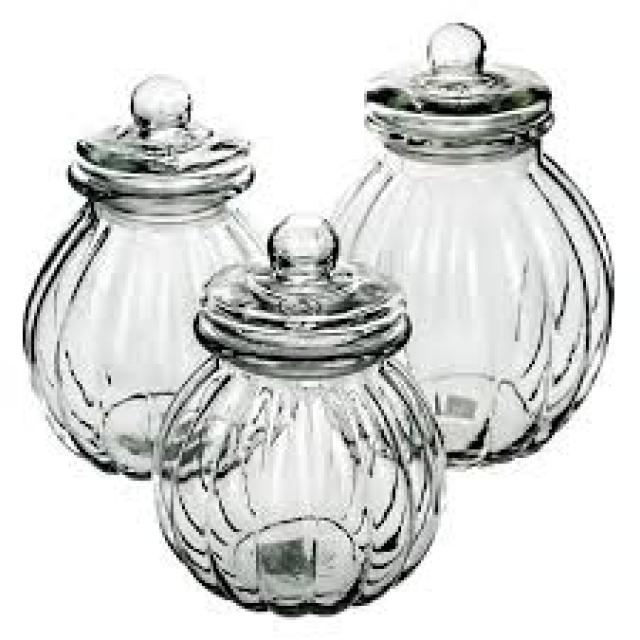glass: (327, 20, 615, 469), (151, 211, 449, 612), (23, 74, 279, 478)
